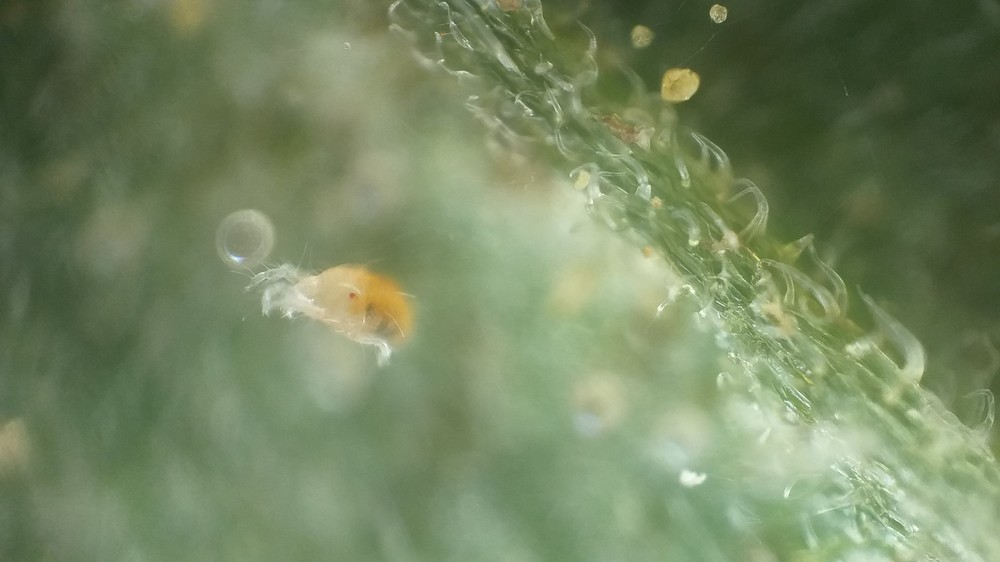Aracnido Rojo: (242, 195, 432, 385)
